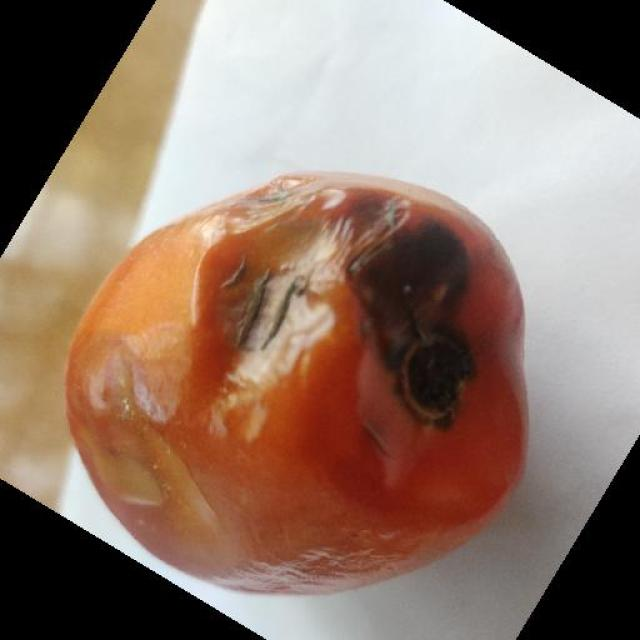Stale_tomato: (54, 181, 520, 550)
